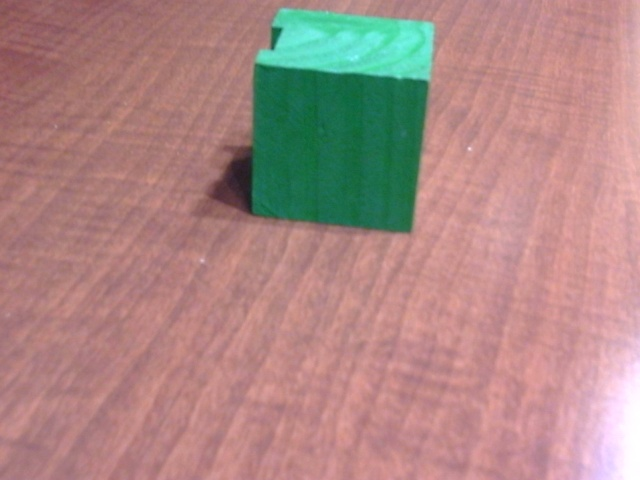GreenBlock: (249, 8, 429, 232)
